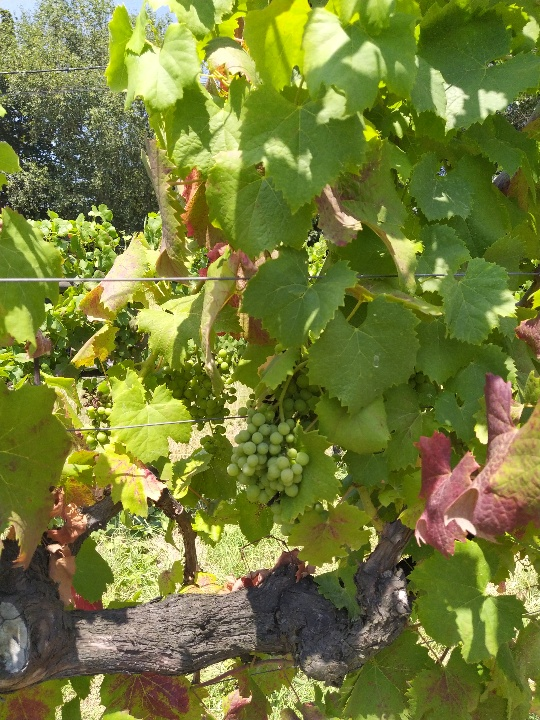grape: (225, 361, 324, 509), (156, 359, 238, 461)
